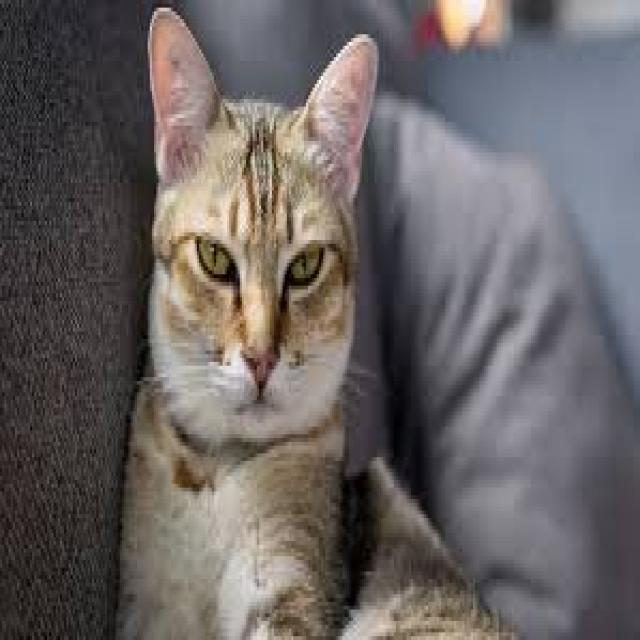cat: (145, 98, 372, 470)
